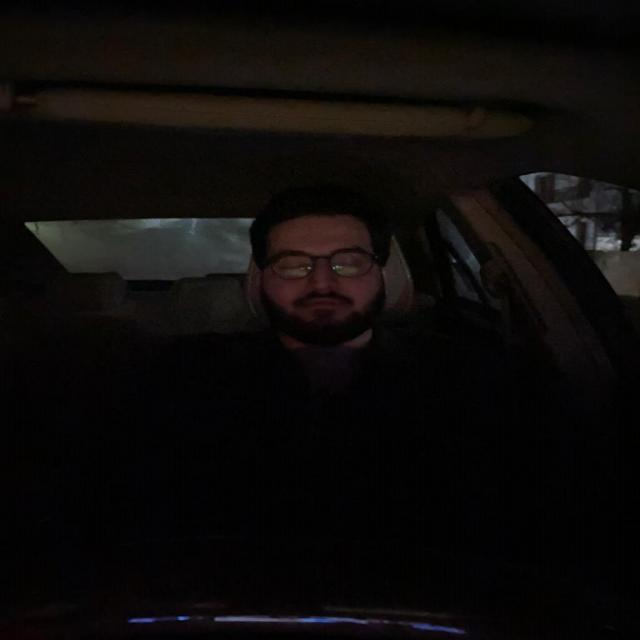drowsy: (250, 187, 396, 345)
